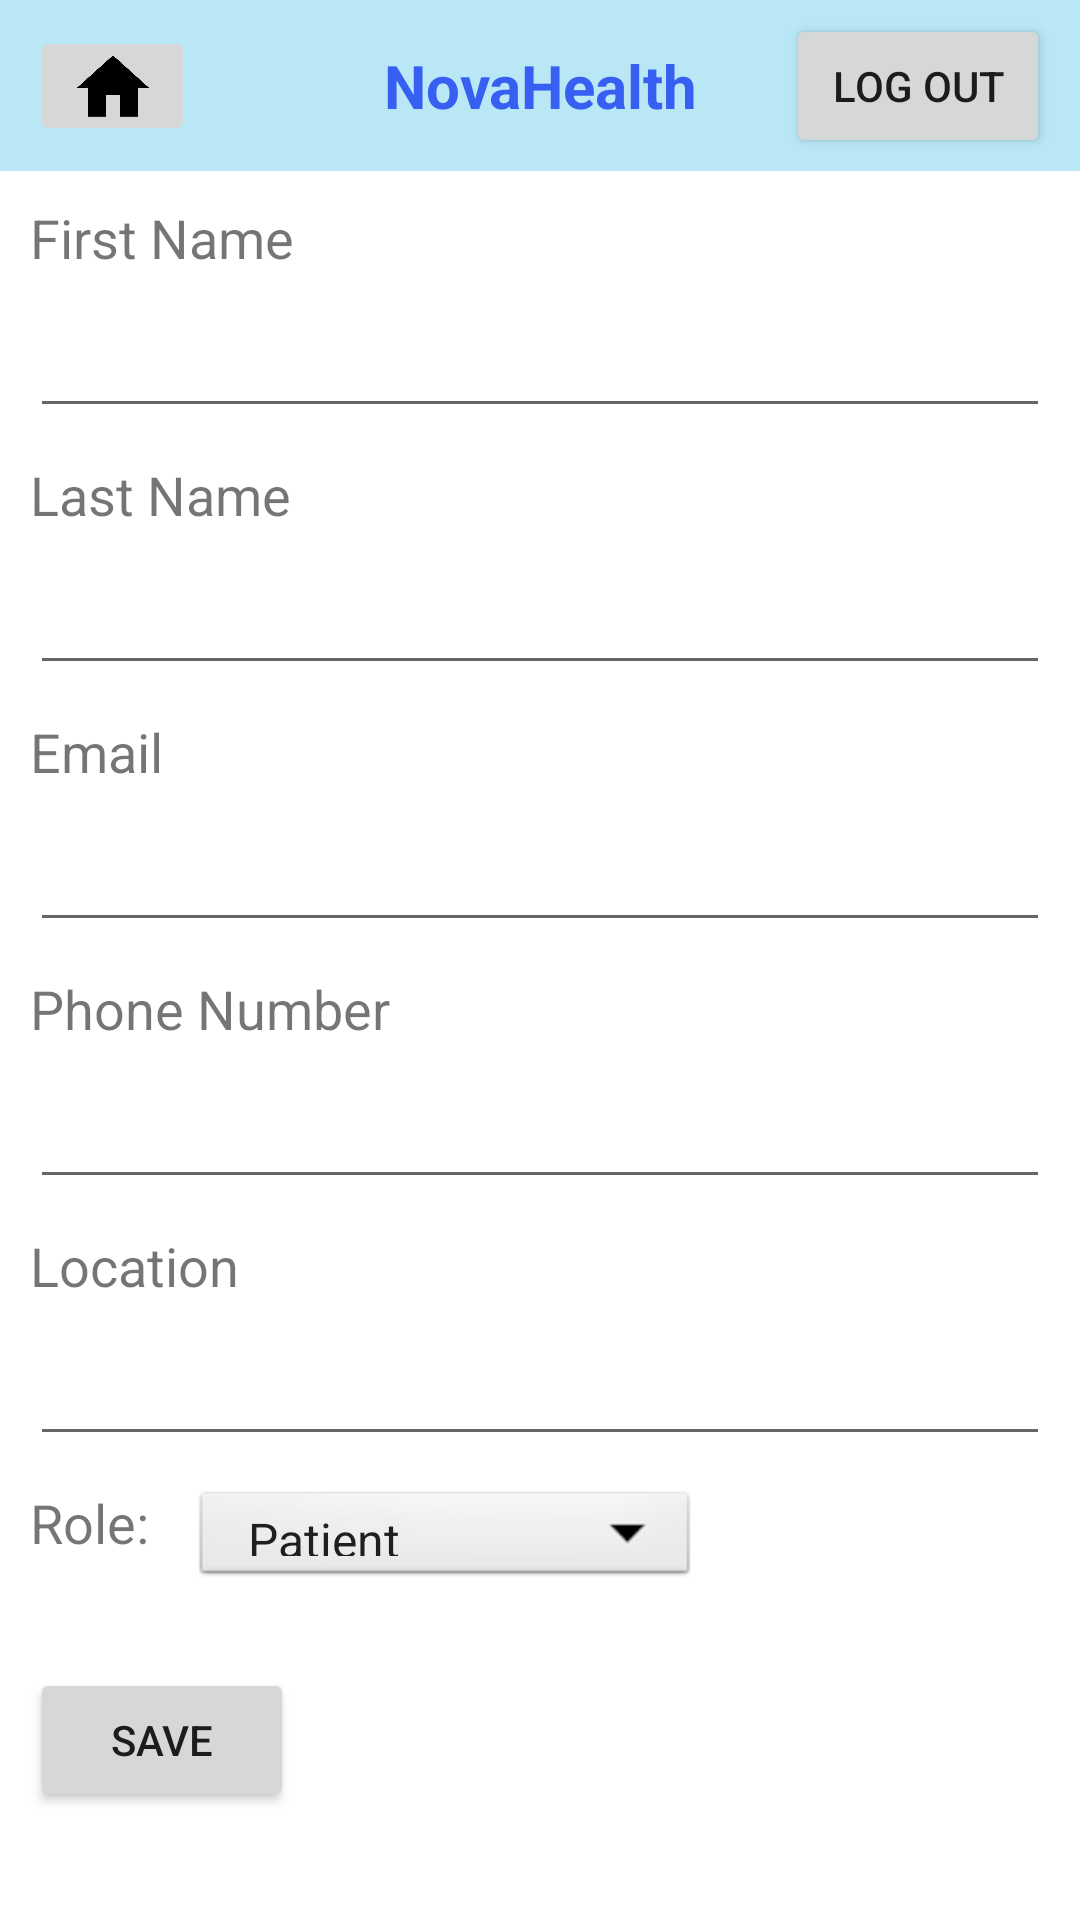

Icons on this 1080x1920 Android screen, each with the point to tap as [x,y]:
homepage: [112,86]
